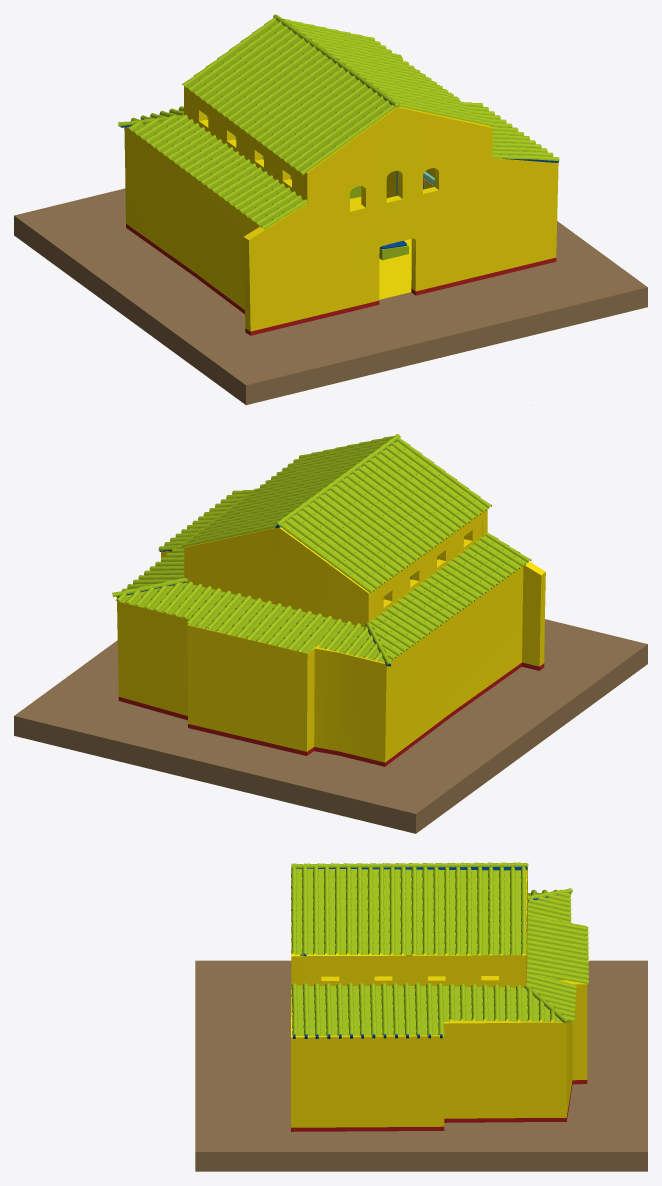
The model's file is Triclinio_EV_optimized.glb.
3 views of the same model, one above another, from view 1: azimuth 30°, elevation 25°; view 2: azimuth 150°, elevation 25°; view 3: azimuth 270°, elevation 25° (orthographic). The views are drawn at different scales.
Parts seen in each view (by area): view 1: Muros_exterior, Cube.001, Tejado, Mosaicos; view 2: Muros_exterior, Cube.001, Tejado; view 3: Cube.001, Tejado, Muros_exterior, Madeira.
Boxes of the visible parts, left/top/right/bottom form: Muros_exterior: left=124, top=86, right=558, bottom=335; Cube.001: left=14, top=188, right=647, bottom=405; Tejado: left=118, top=14, right=559, bottom=229; Mosaicos: left=350, top=197, right=411, bottom=299; Muros_exterior: left=117, top=509, right=545, bottom=766; Cube.001: left=14, top=596, right=647, bottom=833; Tejado: left=112, top=434, right=531, bottom=665; Cube.001: left=195, top=960, right=647, bottom=1171; Tejado: left=291, top=862, right=588, bottom=1035; Muros_exterior: left=291, top=867, right=587, bottom=1131; Madeira: left=293, top=866, right=571, bottom=1038.
Size of the model in its own units: 24.55 by 12.72 by 34.37.
